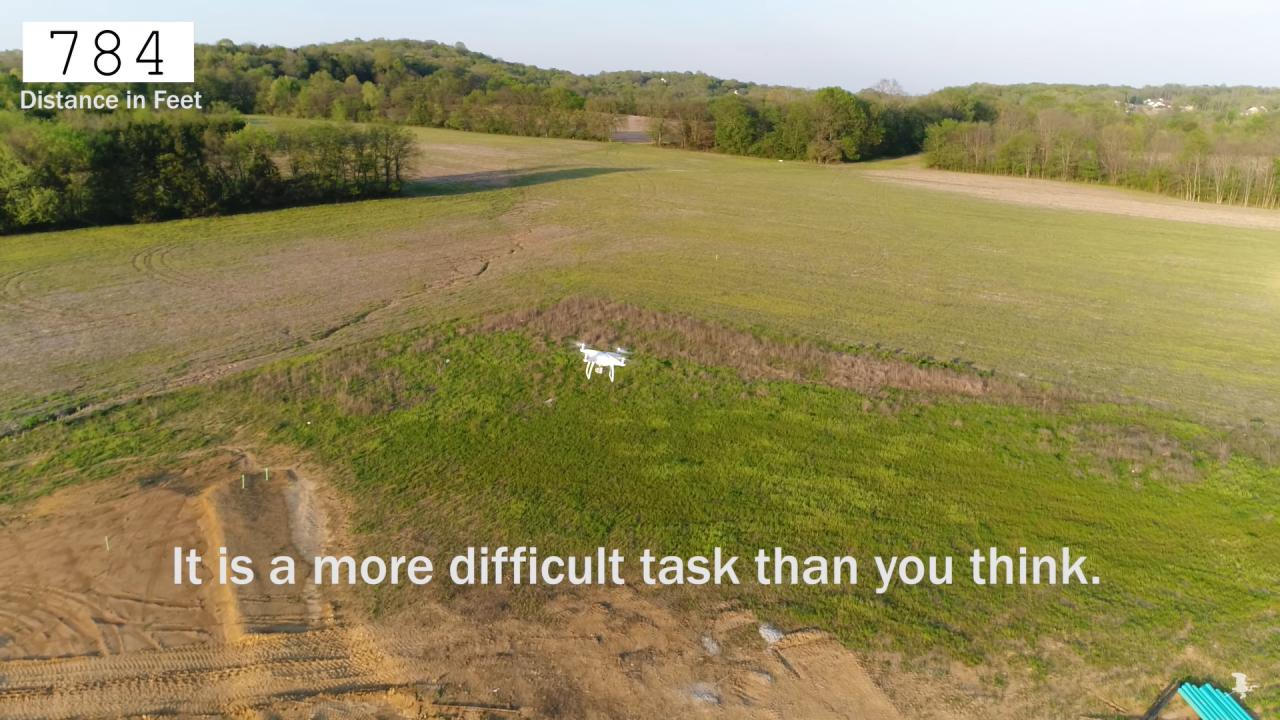Drone: (563, 331, 644, 391)
